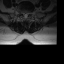CCS_normal: (24, 10, 26, 20)
LFS_stenosis: (28, 9, 30, 15)
LLS_normal: (26, 10, 28, 18)
RFS_stenosis: (21, 9, 22, 15)
RLS_normal: (22, 10, 24, 18)
